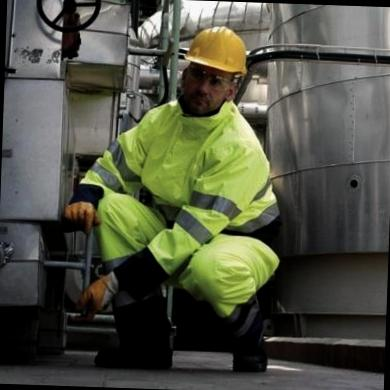helmet: (181, 22, 250, 76)
person: (88, 19, 289, 375)
